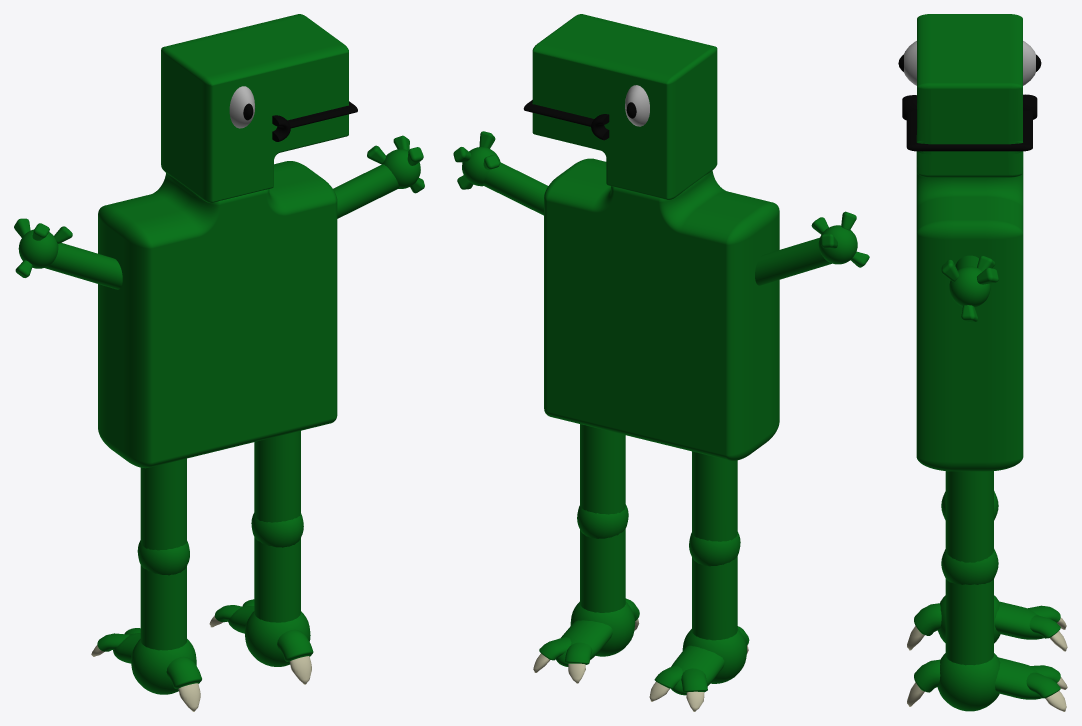
File: Todd_the_Dino_Ready_for_import.fbx
3 renders of one model, left to right at view 1: azimuth 30°, elevation 25°; view 2: azimuth 150°, elevation 25°; view 3: azimuth 270°, elevation 25°, orthographic. The views are drawn at different scales.
Parts seen in each view (by area): view 1: pCube9; view 2: pCube9; view 3: pCube9.
Part boxes in pixels (<box>): pCube9: <box>14,14,424,711</box>; pCube9: <box>453,14,869,711</box>; pCube9: <box>898,14,1067,711</box>.
Size of the model in its own units: 57.63 by 83.34 by 19.71.
